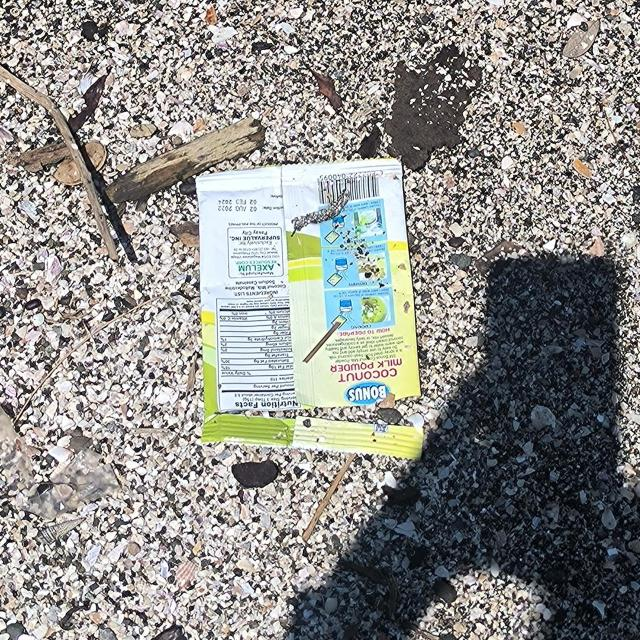plastic_waste: (199, 157, 423, 459)
